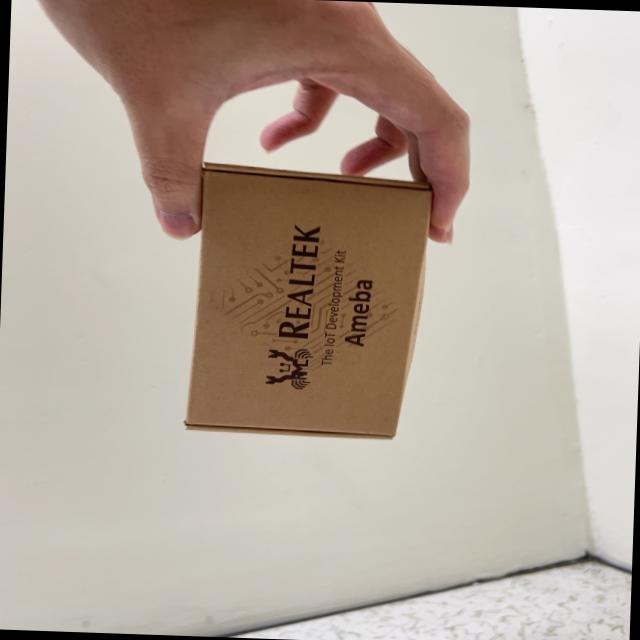box: (177, 148, 449, 460)
